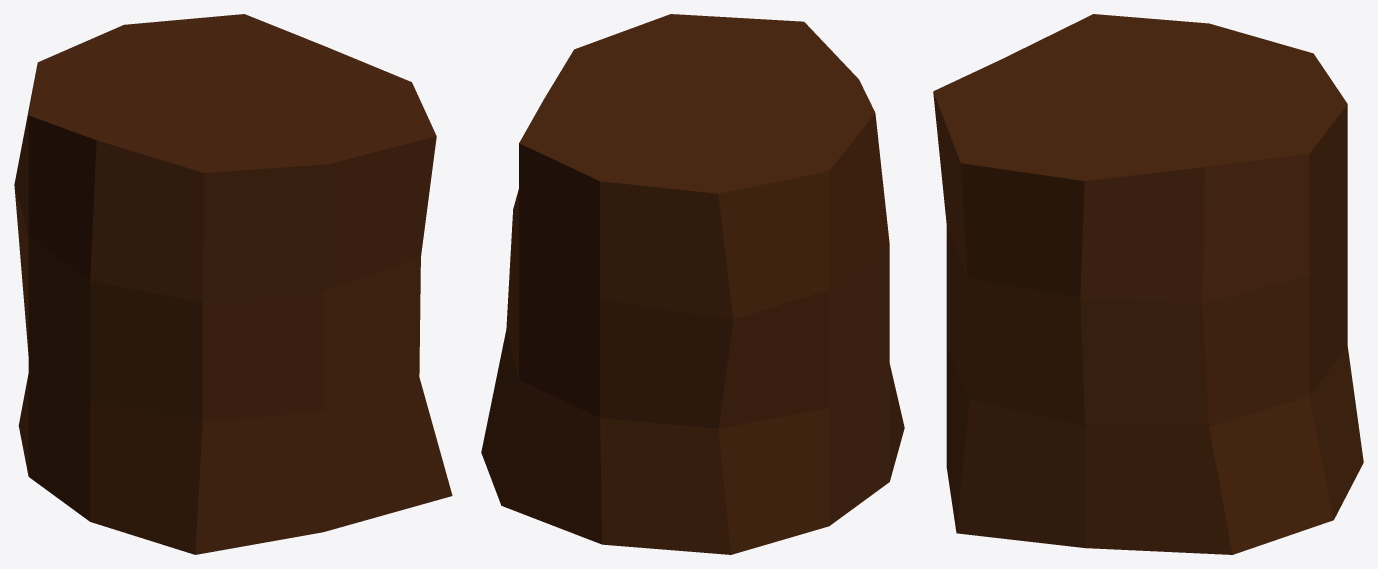
File: ChoppingBlock.fbx
The picture shows the model from 3 angles, left to right: view 1: azimuth 30°, elevation 25°; view 2: azimuth 150°, elevation 25°; view 3: azimuth 270°, elevation 25°; orthographic projection. The views are drawn at different scales.
Visible parts, largest first — view 1: Cylinder; view 2: Cylinder; view 3: Cylinder.
Part boxes in pixels (x1,y1,x2,y2): Cylinder: [14, 14, 452, 554]; Cylinder: [481, 14, 904, 554]; Cylinder: [933, 14, 1363, 554].
Size of the model in its own units: 198 by 208 by 215.
